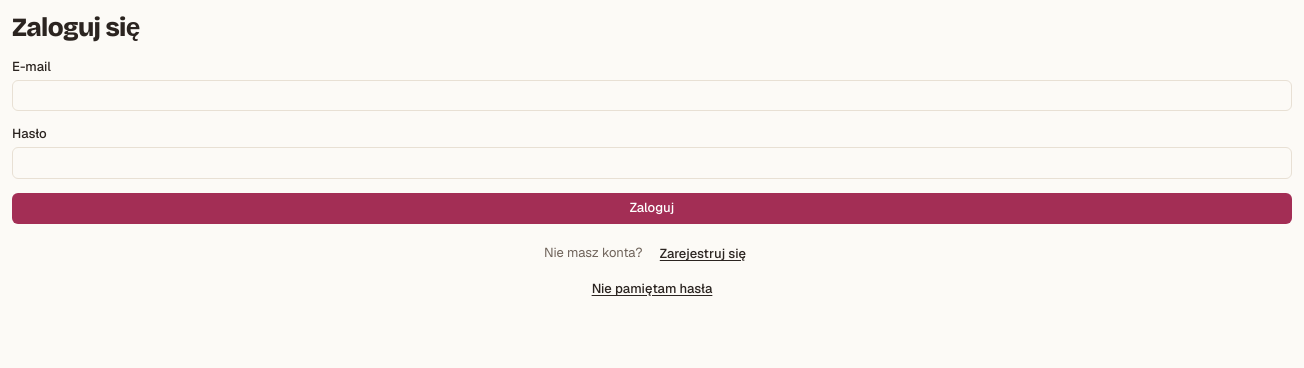
Test: auth submit paths › login failure shows a generic Polish message, not the Supabase text
The image size is (1304, 368).
In the field labelled "E-mail": (652, 95) 12,80 -> 1292,111, type "a@b.pl"
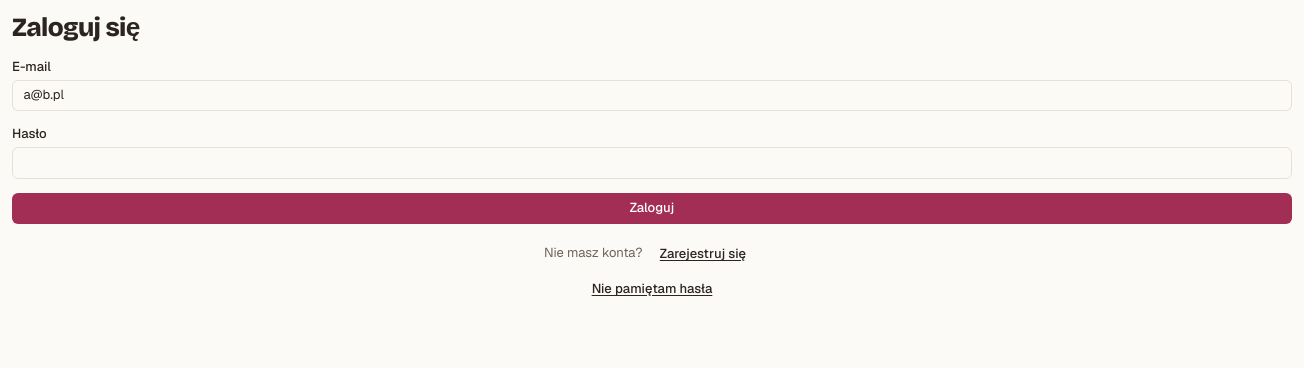
In the password field labelled "Hasło": (652, 163) 12,147 -> 1292,179, type "secret1"
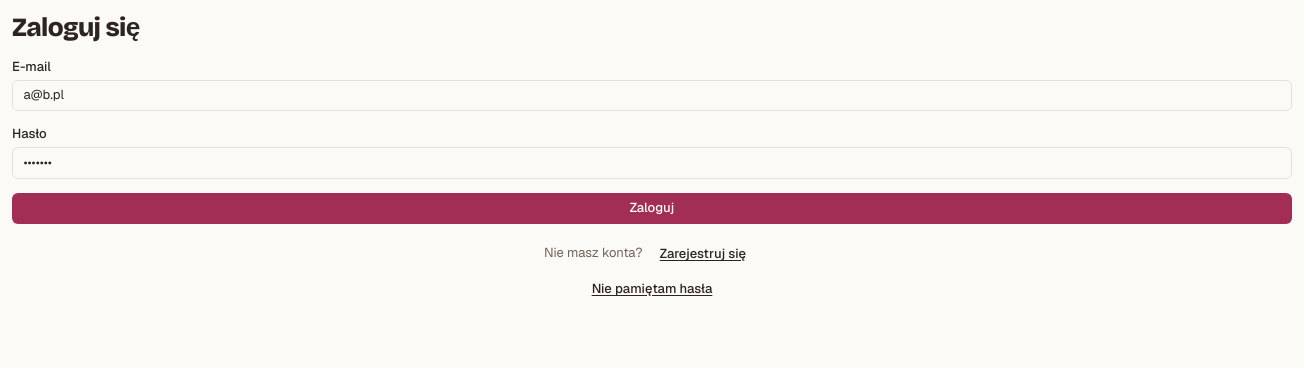
Submit the form
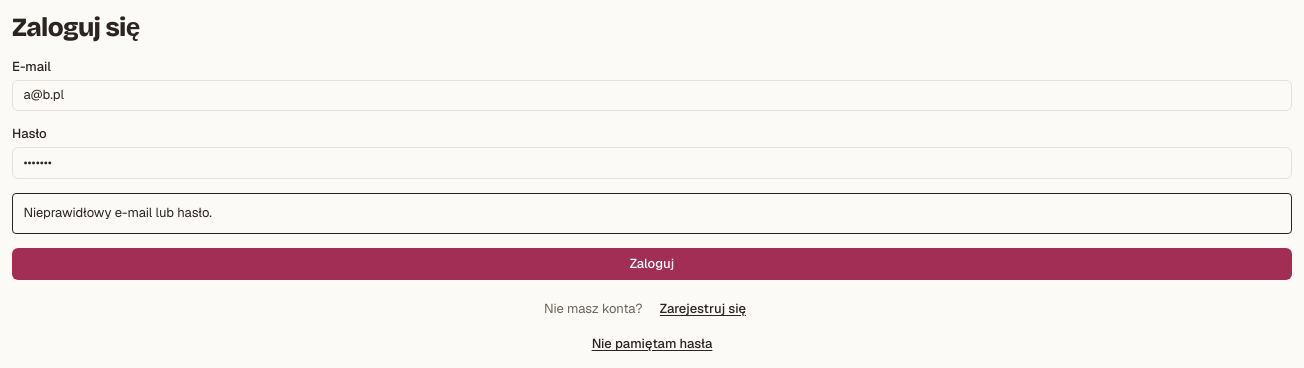
Result: the message reads "Nieprawidłowy e-mail lub hasło." at 24,204 -> 212,221
